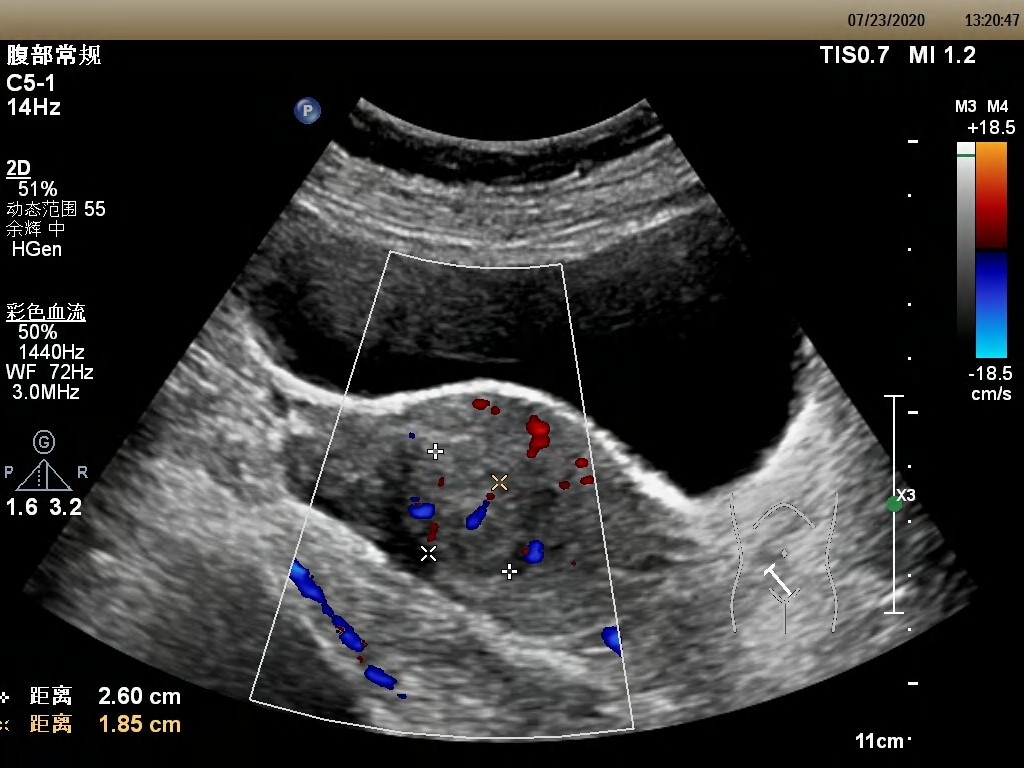肌瘤: (434, 457, 511, 568)
